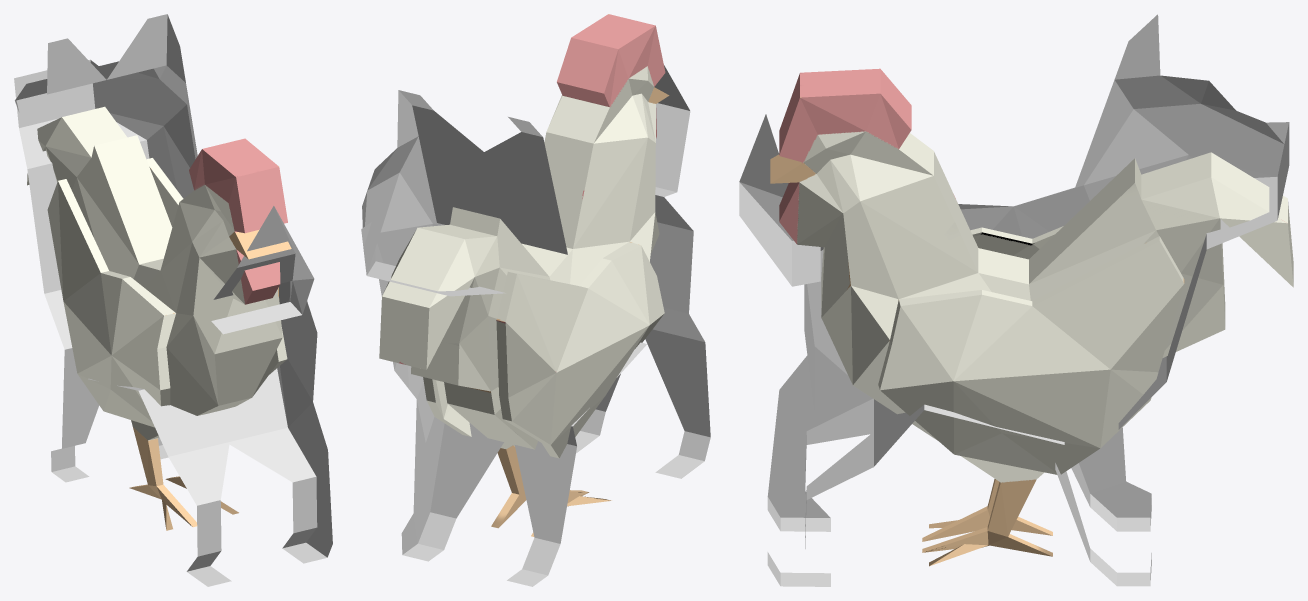
Rendered from chickendog.glb.
3 views of the same model, side by side, from view 1: azimuth 30°, elevation 25°; view 2: azimuth 150°, elevation 25°; view 3: azimuth 270°, elevation 25° (orthographic). The views are drawn at different scales.
Visible parts, largest first — view 1: Chicken, Cube; view 2: Chicken, Cube; view 3: Chicken, Cube.
Boxes of the visible parts, x1=… form: Chicken: x1=27, y1=106, x2=291, y2=530; Cube: x1=14, y1=14, x2=332, y2=586; Chicken: x1=379, y1=14, x2=669, y2=536; Cube: x1=361, y1=65, x2=710, y2=586; Chicken: x1=770, y1=68, x2=1293, y2=566; Cube: x1=739, y1=14, x2=1289, y2=586.
Bounding box in the file's own units: 0.7511 × 1.89 × 1.88.
Materials: 1 (1 with a texture image).
